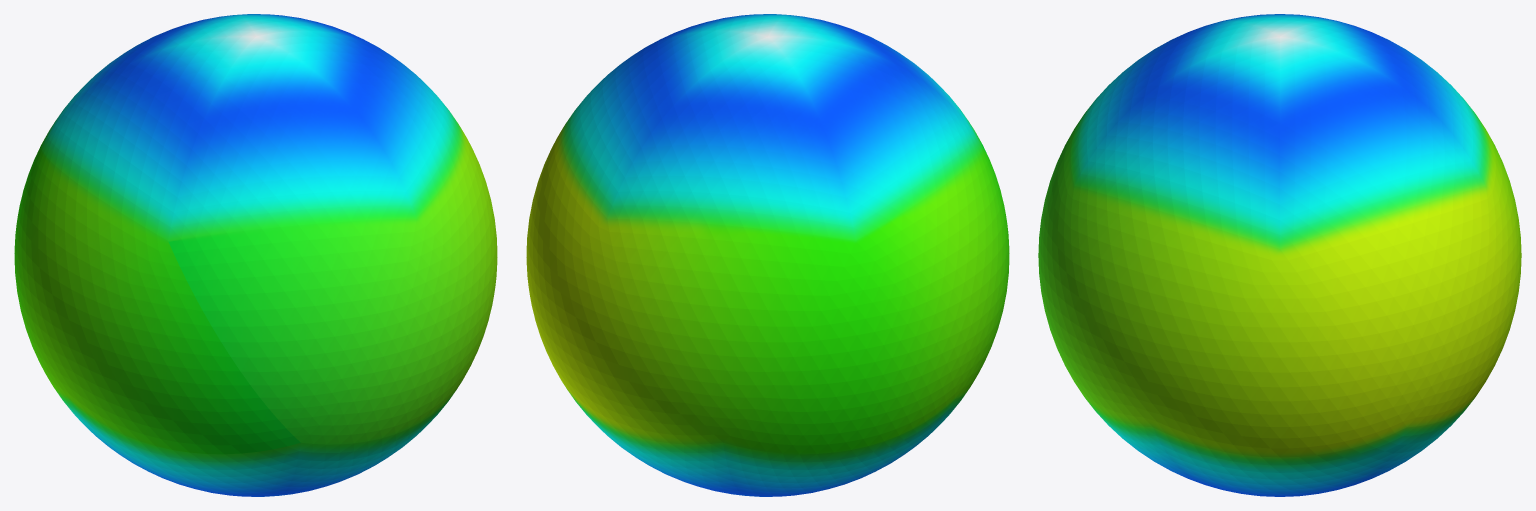
Rendered from Bawl3.obj.
3 views of the same model, side by side, from view 1: azimuth 30°, elevation 25°; view 2: azimuth 150°, elevation 25°; view 3: azimuth 270°, elevation 25° (orthographic).
Parts seen in each view (by area): view 1: Icosphere_Icosphere.005; view 2: Icosphere_Icosphere.005; view 3: Icosphere_Icosphere.005.
Part boxes in pixels (x1,y1,x2,y2): Icosphere_Icosphere.005: (14,14,497,496); Icosphere_Icosphere.005: (526,14,1009,496); Icosphere_Icosphere.005: (1038,14,1521,496).
Bounding box in the file's own units: 2 × 2 × 2.
1 material, 1 textured.
